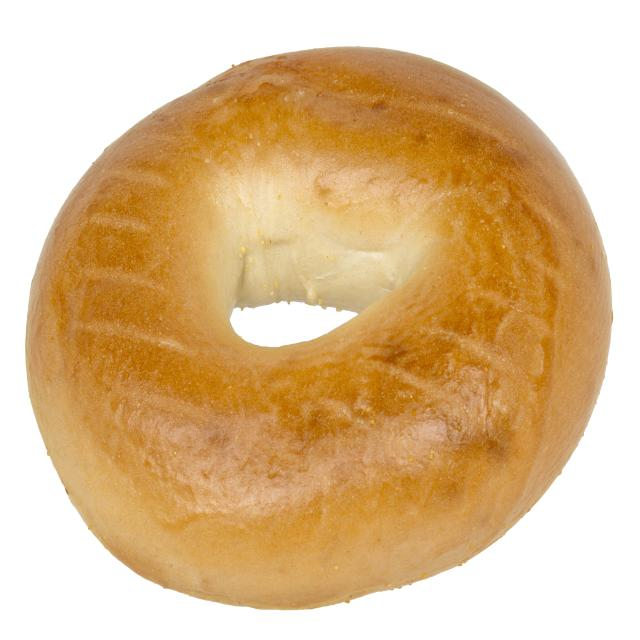Bagel: (26, 48, 612, 609)
